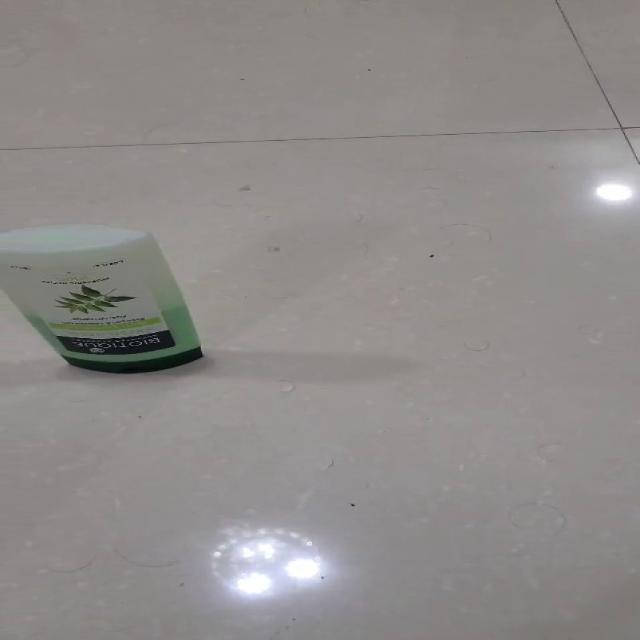plastic: (0, 222, 204, 374)
